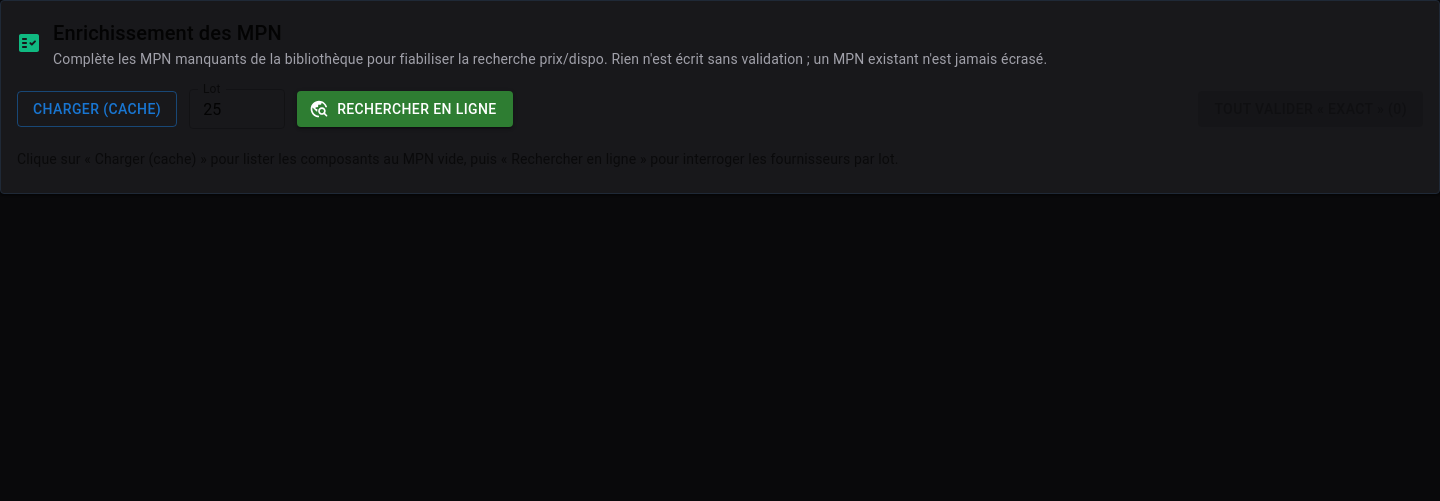
Test: MpnEnrichmentPanel › charge et affiche une carte composant avec badge et boutons fournisseurs
Click the button "Charger (cache)" at (97, 109), box [17, 91, 177, 127]
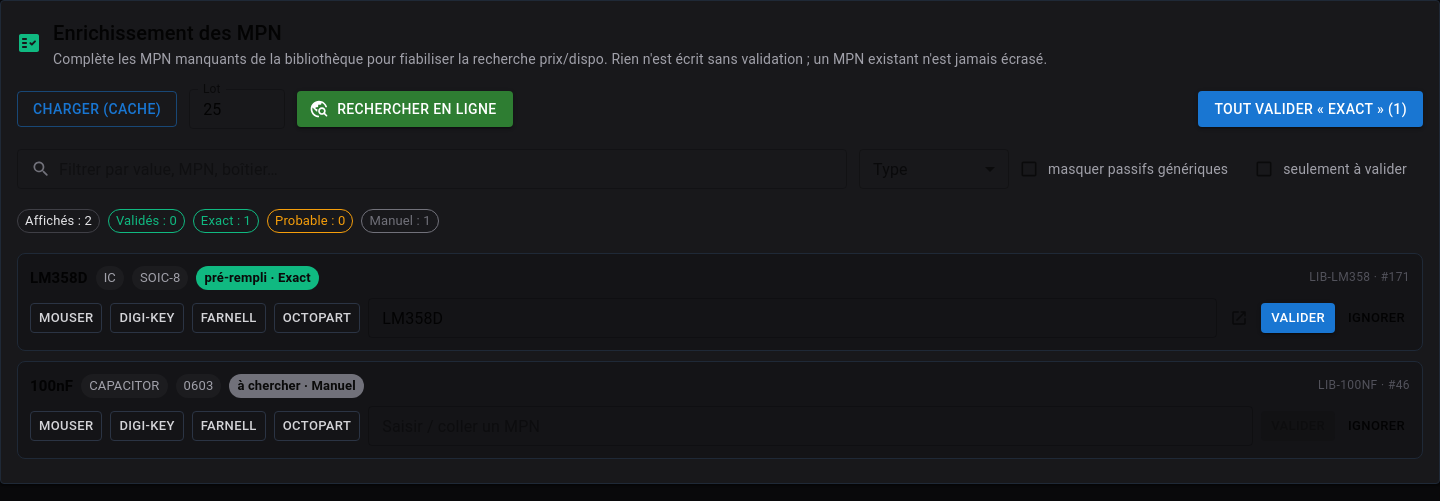
Result: the text "pré-rempli · Exact" is shown at [196, 268, 319, 288]
Result: the button "Mouser" below "LM358D" is shown at [30, 303, 102, 333]
Result: the button "Octopart" below "LM358D" is shown at [274, 303, 360, 333]
